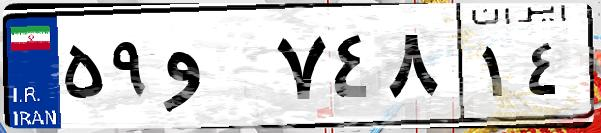1: (475, 38, 525, 113)
4: (330, 28, 385, 110), (525, 38, 570, 115)
5: (57, 26, 110, 100)
7: (270, 28, 330, 110)
8: (385, 28, 445, 110)
9: (110, 28, 158, 98)
و: (158, 20, 270, 120)
